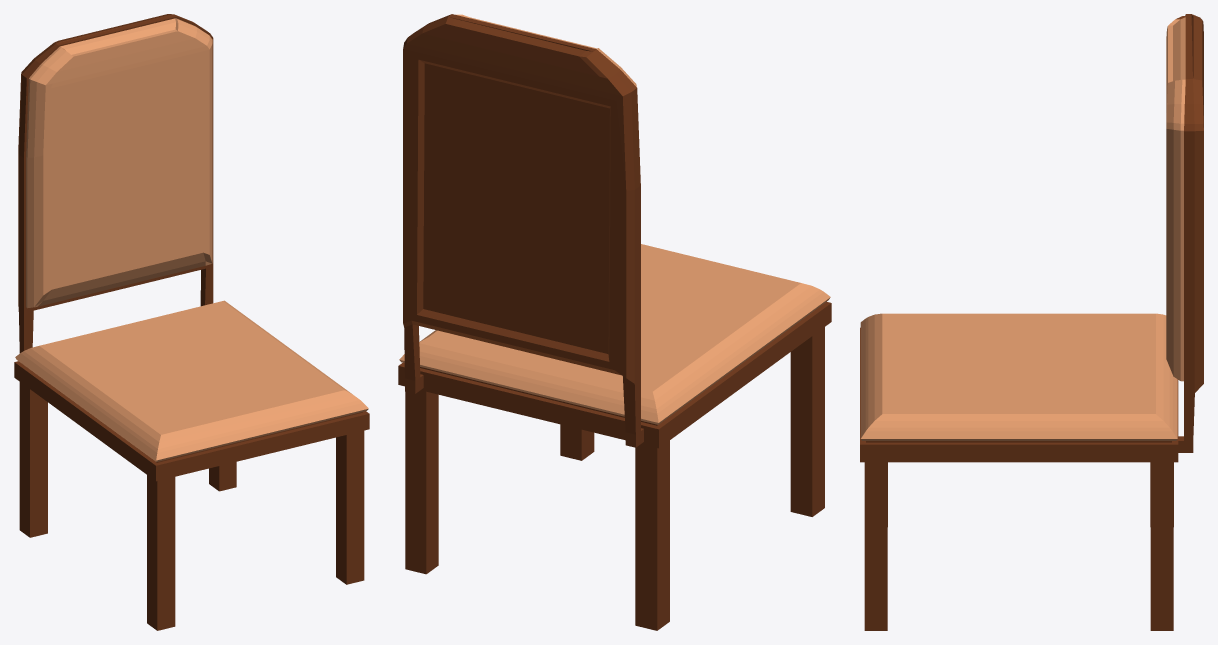
The model's file is Cadeira.fbx.
3 views of the same model, side by side, from view 1: azimuth 30°, elevation 25°; view 2: azimuth 150°, elevation 25°; view 3: azimuth 270°, elevation 25° (orthographic). The views are drawn at different scales.
Visible parts, largest first — view 1: Cube.122; view 2: Cube.122; view 3: Cube.122.
Boxes of the visible parts, x1=… form: Cube.122: x1=14, y1=14, x2=369, y2=630; Cube.122: x1=398, y1=14, x2=831, y2=630; Cube.122: x1=860, y1=14, x2=1203, y2=630.
Bounding box in the file's own units: 93.78 × 197 × 116.
